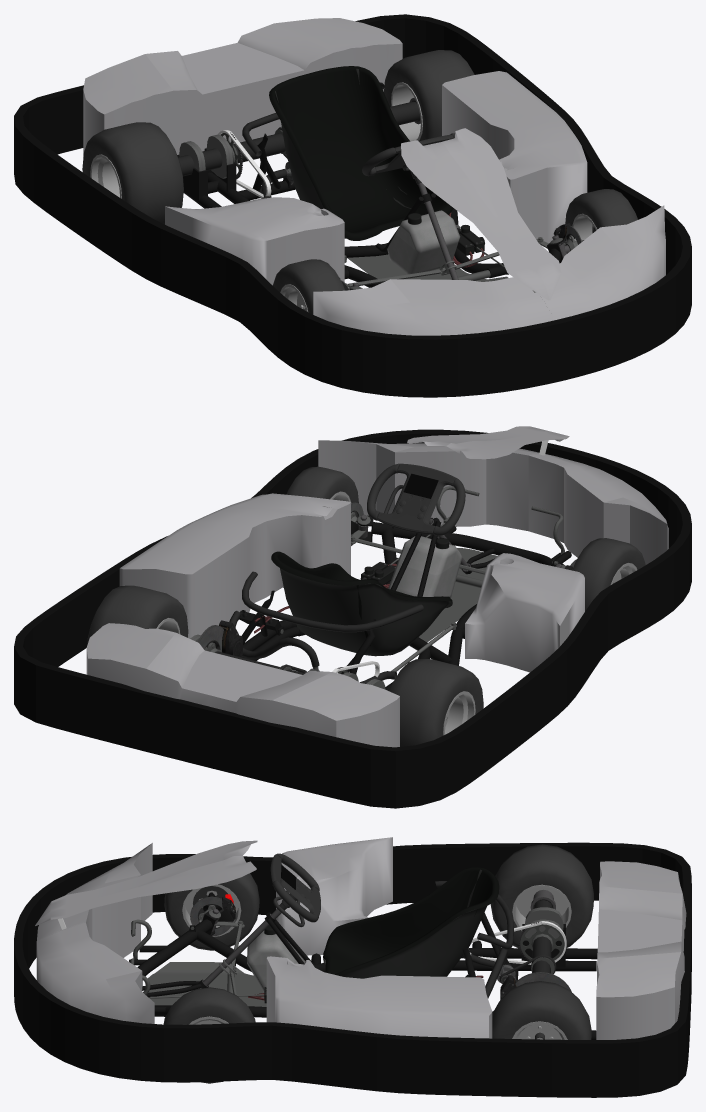
The model's file is tbkart_r25_go-_kart.glb.
The picture shows the model from 3 angles, top to bottom: view 1: azimuth 30°, elevation 25°; view 2: azimuth 150°, elevation 25°; view 3: azimuth 270°, elevation 25°; orthographic projection. The views are drawn at different scales.
Visible parts, largest first — view 1: Object_2, Object_3, Object_11, Object_7, Object_10, Object_8, Object_9, Object_4; view 2: Object_2, Object_3, Object_10, Object_11, Object_7, Object_9, Object_8, Object_12; view 3: Object_2, Object_3, Object_10, Object_7, Object_11, Object_8, Object_9, Object_4.
Boxes of the visible parts, bbox=[...] form: Object_2: bbox=[83, 18, 665, 335]; Object_3: bbox=[14, 14, 691, 397]; Object_11: bbox=[269, 66, 504, 274]; Object_7: bbox=[82, 50, 637, 314]; Object_10: bbox=[177, 82, 583, 290]; Object_8: bbox=[90, 82, 597, 311]; Object_9: bbox=[362, 133, 455, 184]; Object_4: bbox=[218, 130, 271, 198]; Object_2: bbox=[86, 426, 668, 747]; Object_3: bbox=[14, 429, 691, 808]; Object_10: bbox=[190, 486, 576, 690]; Object_11: bbox=[254, 517, 462, 656]; Object_7: bbox=[87, 466, 645, 746]; Object_9: bbox=[367, 463, 465, 535]; Object_8: bbox=[156, 491, 637, 735]; Object_12: bbox=[403, 473, 438, 498]; Object_2: bbox=[35, 837, 686, 1039]; Object_3: bbox=[14, 842, 691, 1097]; Object_10: bbox=[129, 881, 597, 1039]; Object_7: bbox=[163, 844, 593, 1083]; Object_11: bbox=[150, 867, 499, 1003]; Object_8: bbox=[182, 884, 571, 1039]; Object_9: bbox=[270, 853, 320, 927]; Object_4: bbox=[468, 921, 566, 964].
Size of the model in its own units: 2.06 by 0.765 by 2.93.
Materials: 12 (2 with a texture image).
